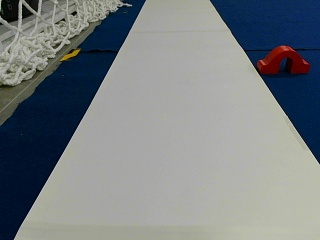bridge: (259, 45, 309, 73)
